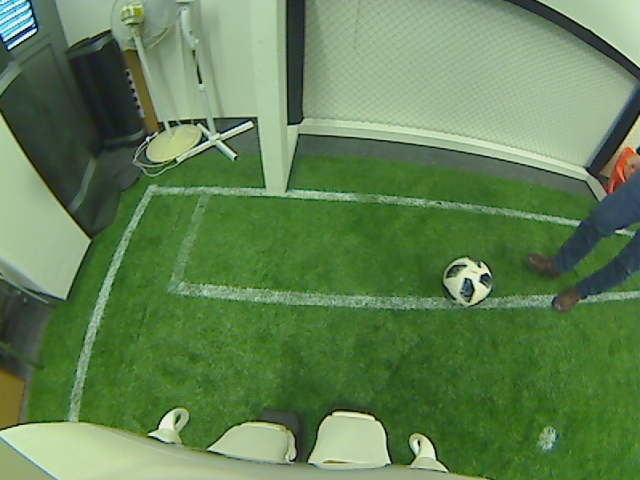ball: (443, 256, 494, 306)
